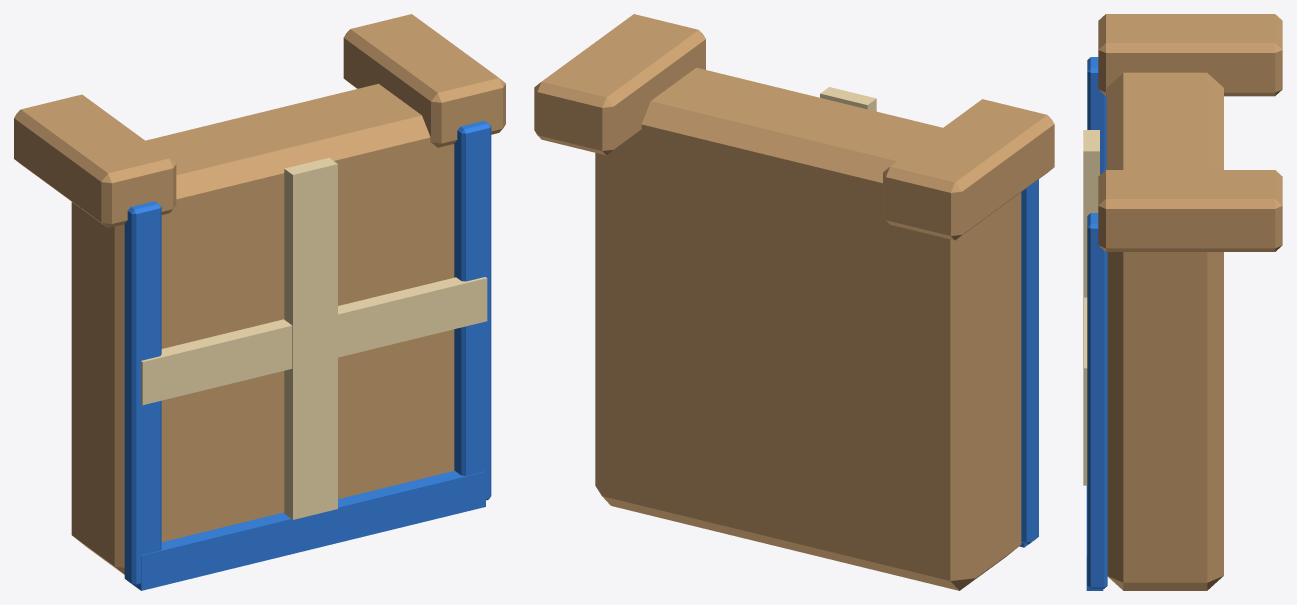
File: fps_armor.glb
3 views of the same model, side by side, from view 1: azimuth 30°, elevation 25°; view 2: azimuth 150°, elevation 25°; view 3: azimuth 270°, elevation 25° (orthographic). The views are drawn at different scales.
Visible parts, largest first — view 1: detail_Cardboard, detail_Blueberry, detail_Paper tape; view 2: detail_Cardboard, detail_Blueberry, detail_Paper tape; view 3: detail_Cardboard, detail_Blueberry, detail_Paper tape.
Boxes of the visible parts, x1,y1,x2,y2 form: detail_Cardboard: (14, 14, 505, 574); detail_Blueberry: (124, 120, 491, 590); detail_Paper tape: (141, 158, 487, 519); detail_Cardboard: (534, 14, 1054, 590); detail_Blueberry: (1019, 179, 1038, 547); detail_Paper tape: (820, 87, 876, 111); detail_Cardboard: (1098, 14, 1282, 590); detail_Blueberry: (1086, 57, 1107, 590); detail_Paper tape: (1083, 130, 1099, 485).
Size of the model in its own units: 0.54 by 0.535 by 0.238.
